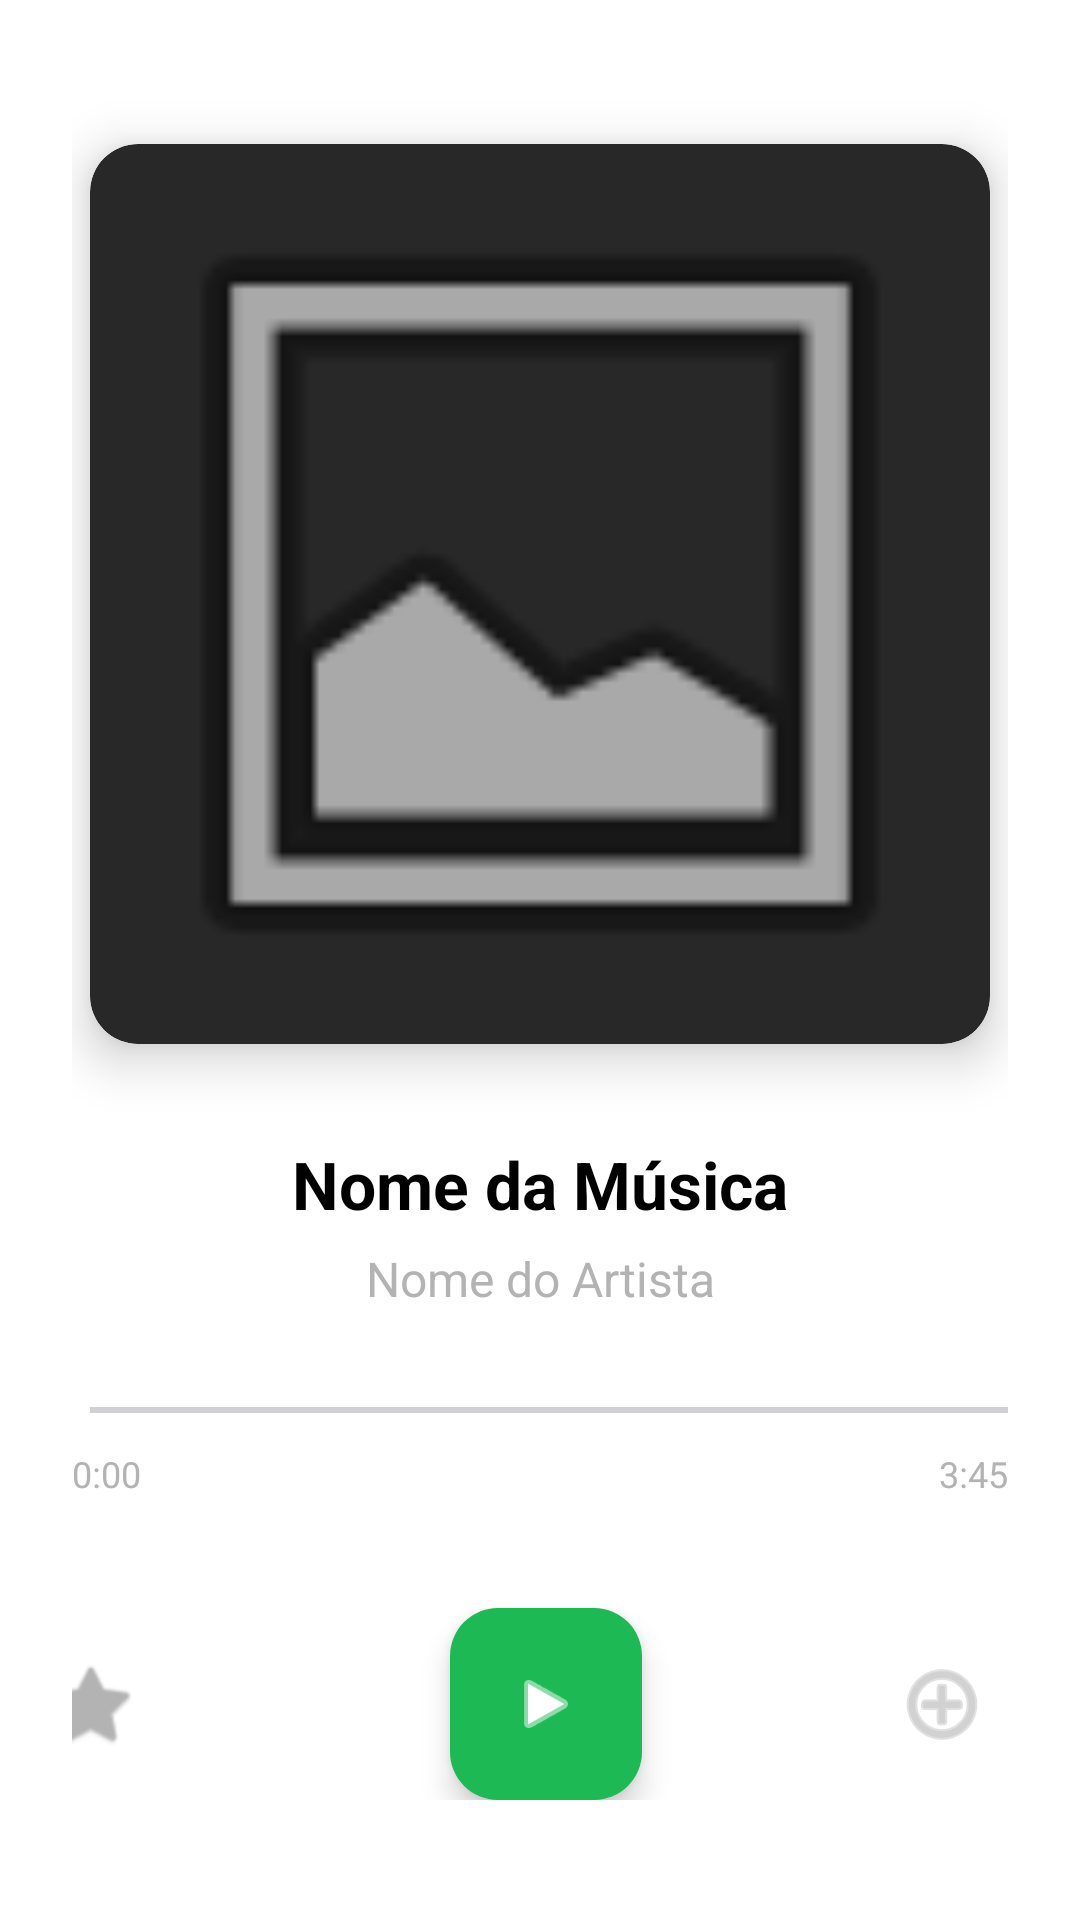

Named icons in this screenshot (1080*1920) and their bounding boxes, bbox=[x1, y1, x2, y2]:
Adicionar à Playlist: bbox=[907, 1669, 977, 1740]
Play/Pause: bbox=[450, 1608, 642, 1800]
